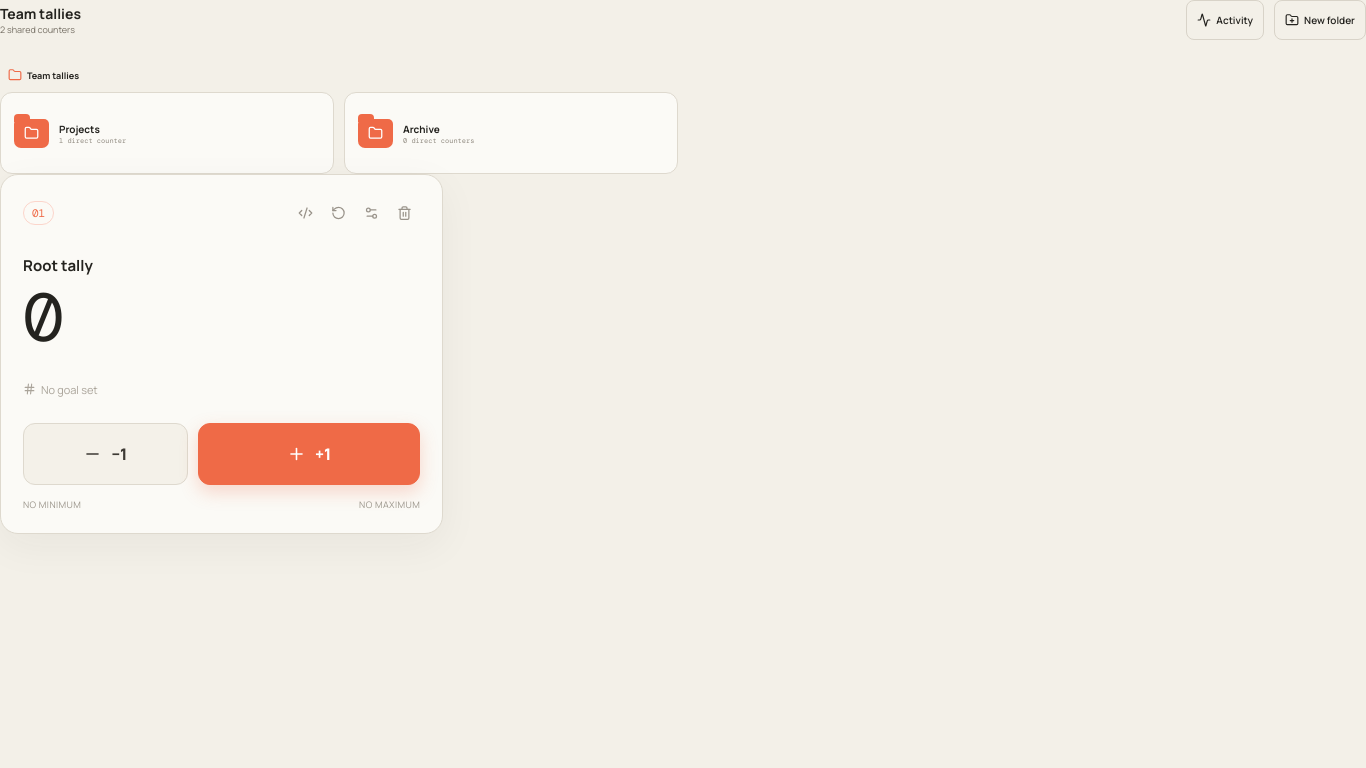
Test: shows the realtime shared-counter audit log
The image size is (1366, 768).
Click the button "Activity" at (1225, 20), box [1186, 0, 1264, 40]
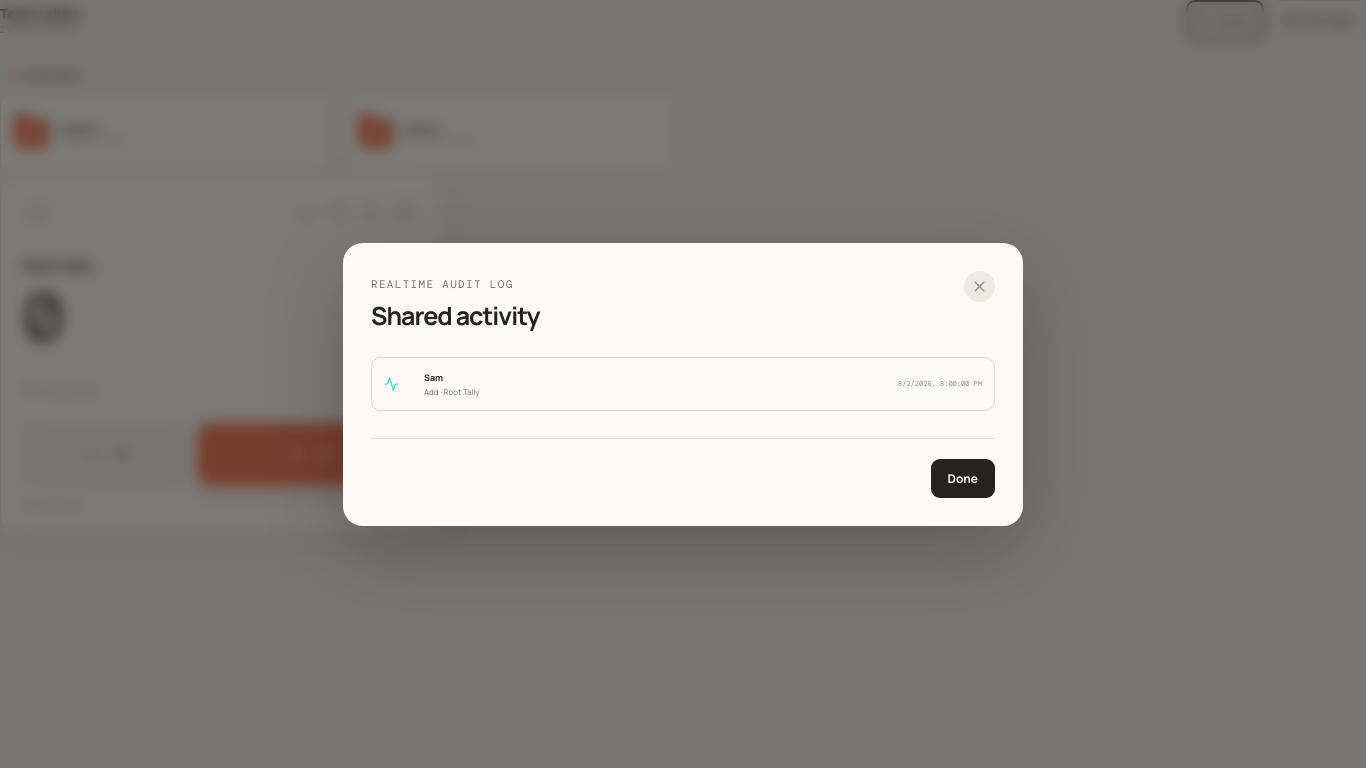
Expected: the heading "Shared activity" is shown, [371, 298, 540, 332]
Expected: the text "Sam" is shown, [424, 370, 443, 384]
Expected: the text "add · Root tally" is shown, [424, 386, 480, 396]
